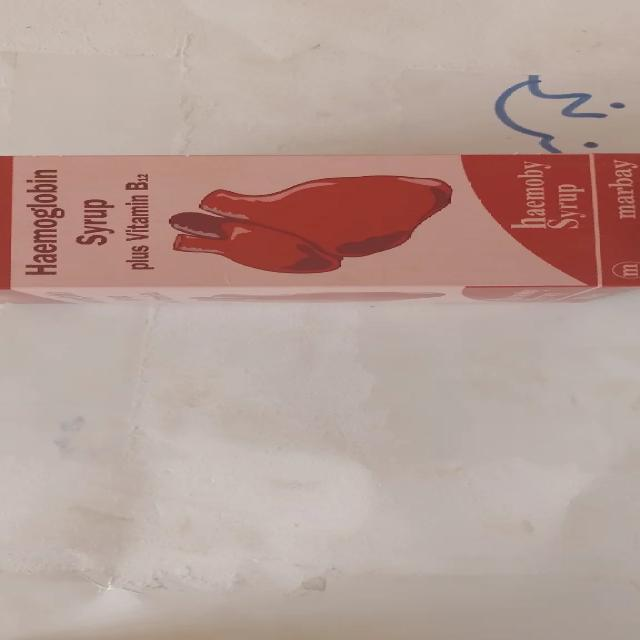drug-name: (11, 166, 74, 286)
